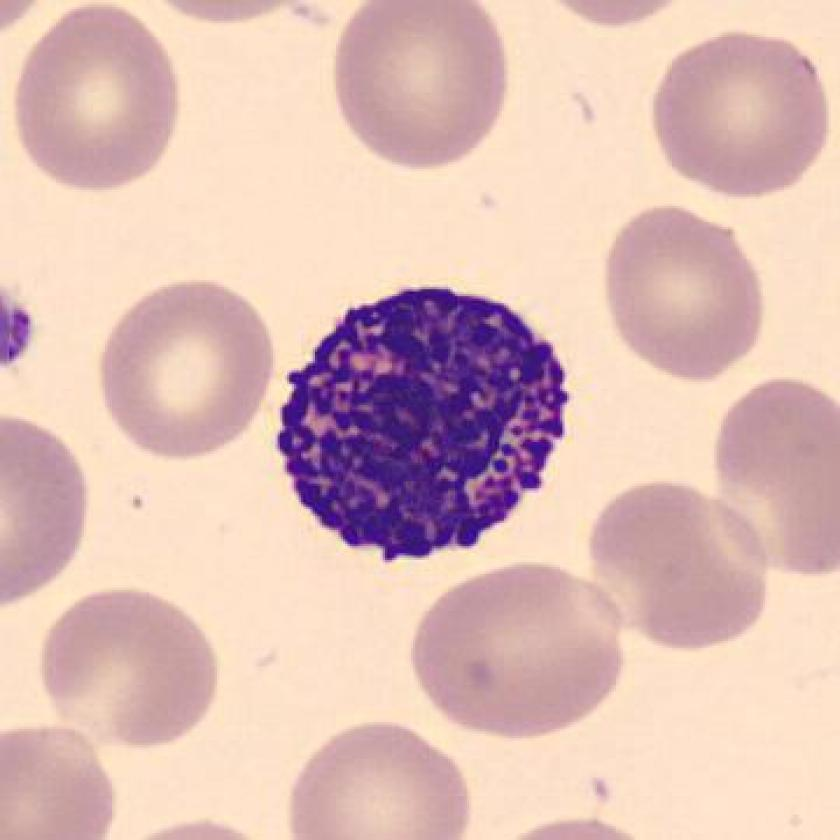basophil: (279, 274, 580, 566)
